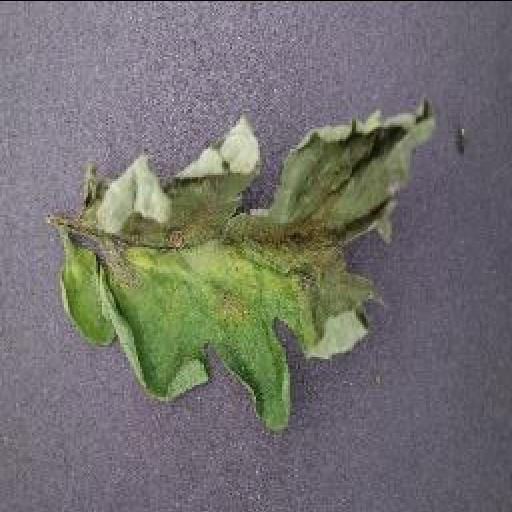disease_tomato: (54, 97, 440, 431)
